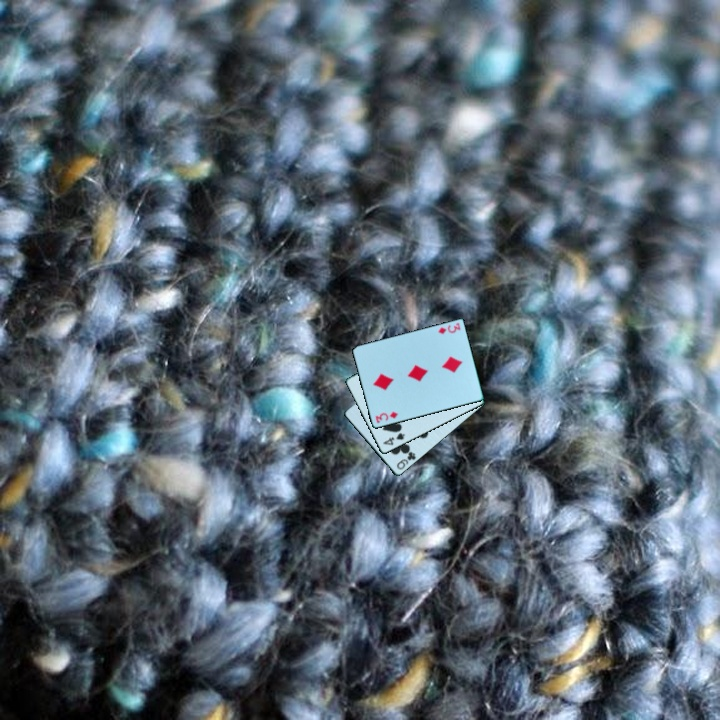3d: (372, 408, 401, 426), (434, 320, 463, 337)
4s: (379, 430, 408, 448)
9c: (393, 448, 419, 473)
